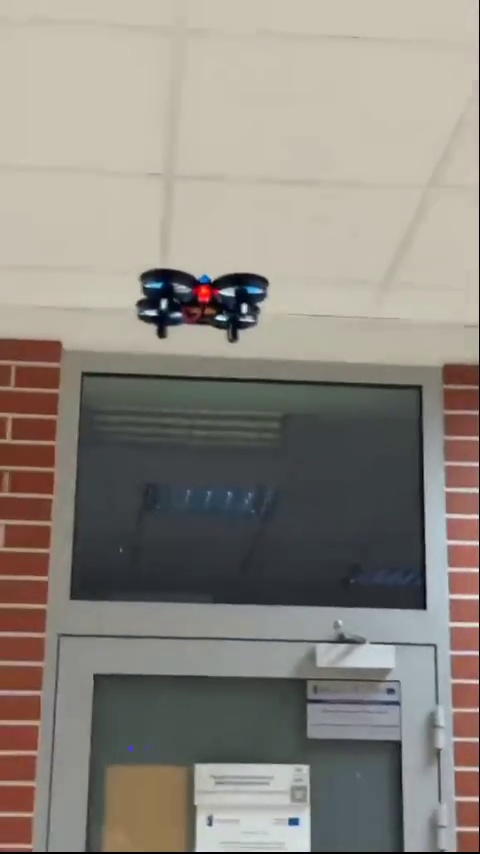drone: (135, 265, 267, 343)
